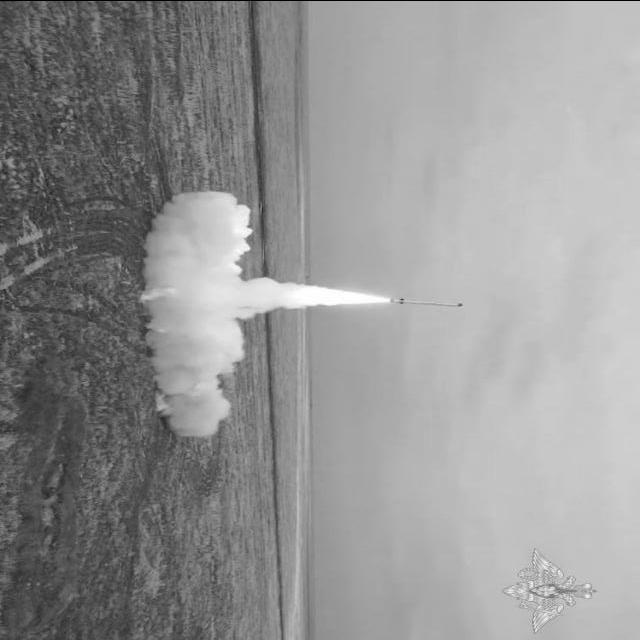Missile: (389, 294, 469, 312)
